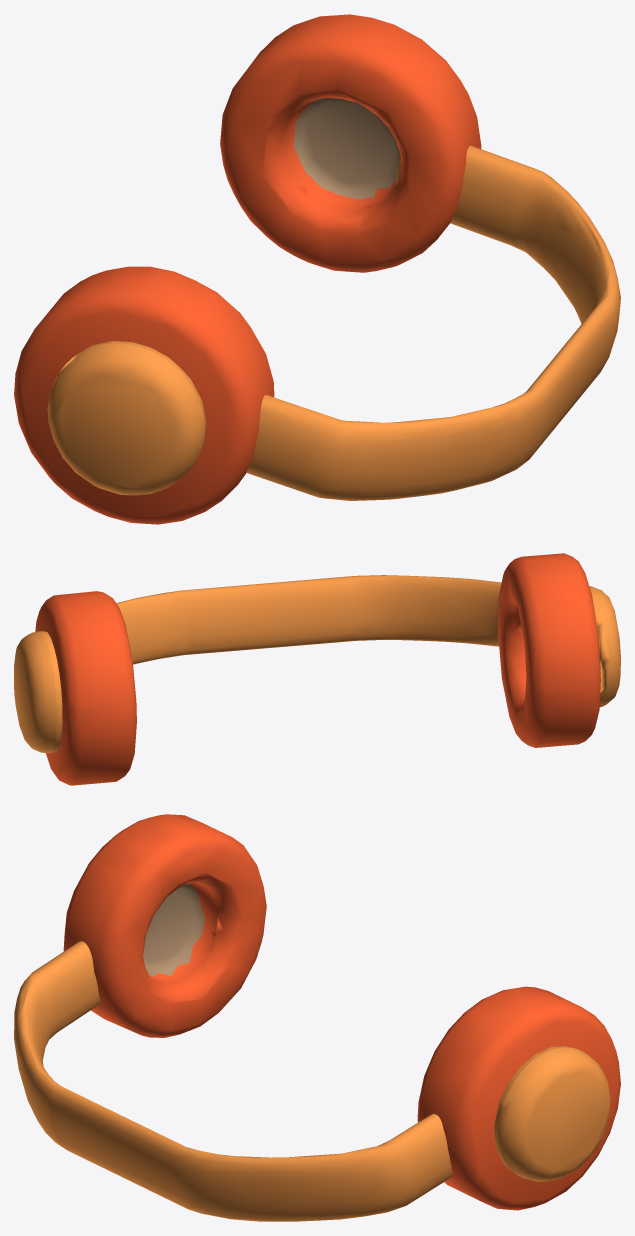
The model's file is headphones.glb.
3 views of the same model, one above another, from view 1: azimuth 30°, elevation 25°; view 2: azimuth 150°, elevation 25°; view 3: azimuth 270°, elevation 25° (orthographic). The views are drawn at different scales.
Visible parts, largest first — view 1: 16 Headphones | Circle; view 2: 16 Headphones | Circle; view 3: 16 Headphones | Circle.
Part boxes in pixels (x1,y1,x2,y2): 16 Headphones | Circle: (14, 14, 620, 524); 16 Headphones | Circle: (14, 553, 620, 785); 16 Headphones | Circle: (14, 814, 620, 1221).
Bounding box in the file's own units: 0.7352 × 0.2556 × 0.7082.
